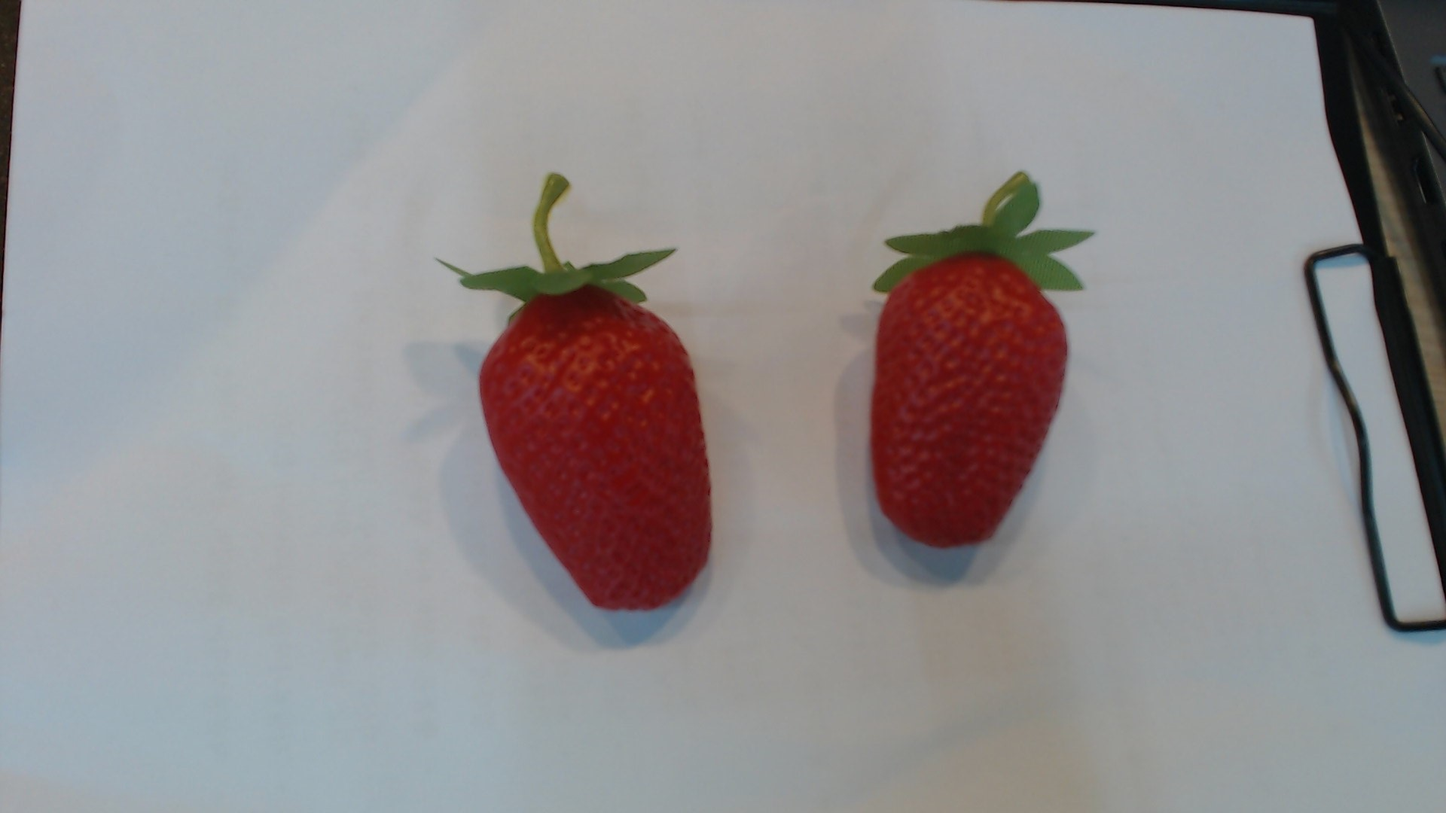strawberry: (471, 279, 719, 621), (855, 236, 1076, 574)
